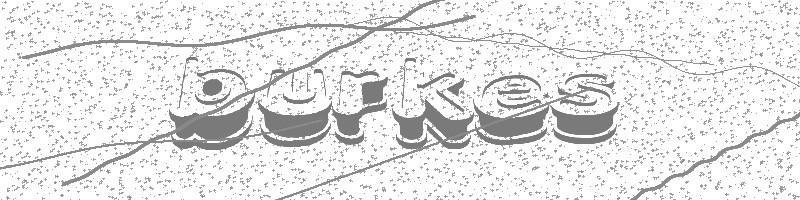b: (167, 54, 254, 150)
e: (474, 73, 549, 146)
k: (390, 56, 474, 152)
r: (332, 70, 388, 145)
s: (552, 72, 620, 146)
u: (258, 67, 332, 147)
